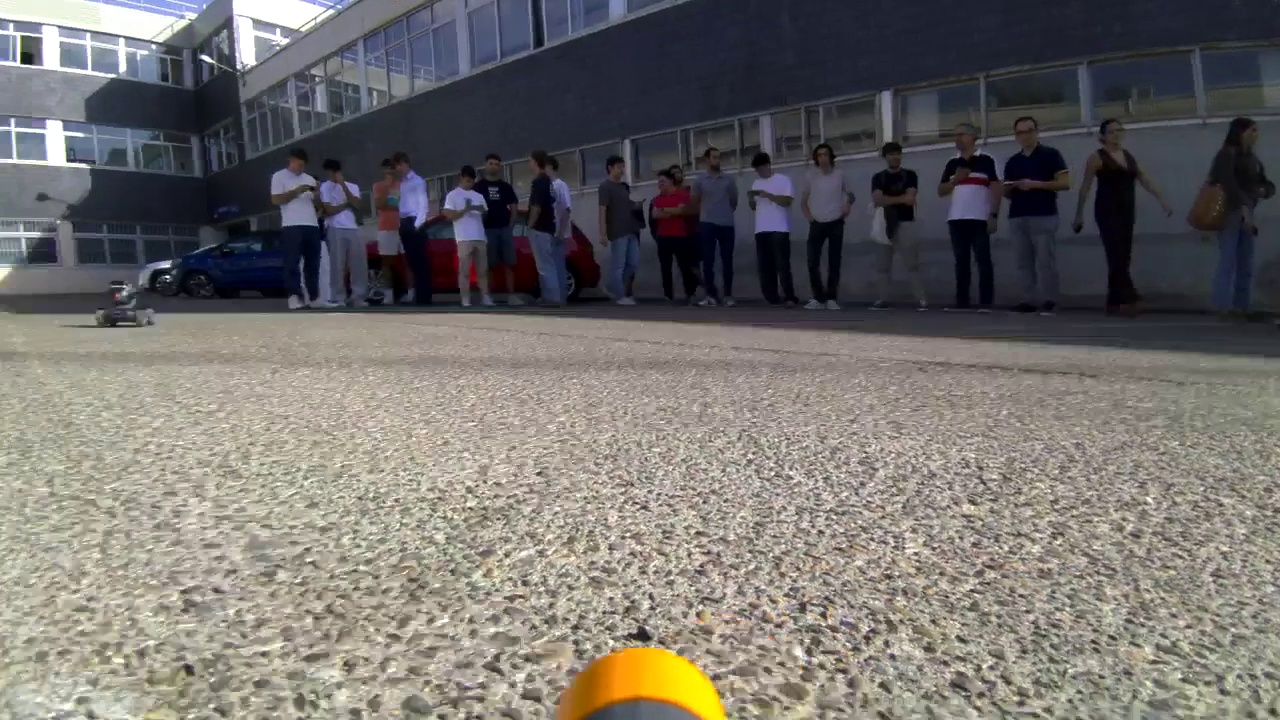robot: (76, 270, 156, 327)
